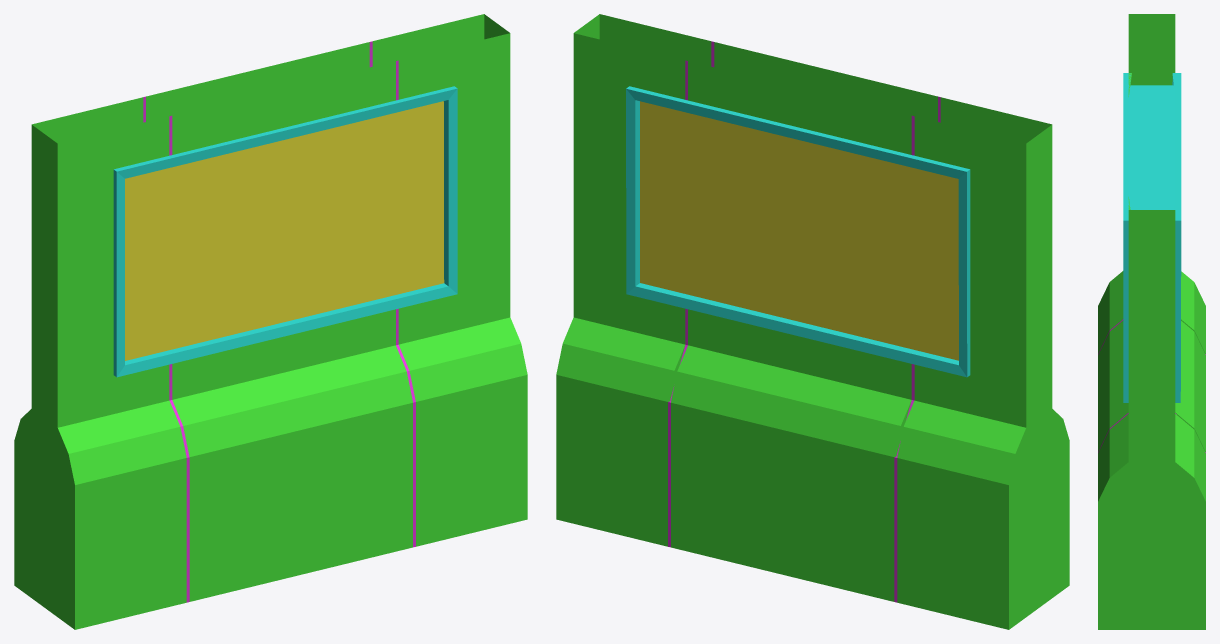
Rendered from Wall_43_G_Straight.fbx.
3 views of the same model, side by side, from view 1: azimuth 30°, elevation 25°; view 2: azimuth 150°, elevation 25°; view 3: azimuth 270°, elevation 25° (orthographic). The views are drawn at different scales.
Parts seen in each view (by area): view 1: Wall_43_G_Straight; view 2: Wall_43_G_Straight; view 3: Wall_43_G_Straight.
Boxes of the visible parts, box(x1,y1,x2,y2) form: Wall_43_G_Straight: box(14, 14, 527, 629); Wall_43_G_Straight: box(556, 14, 1069, 629); Wall_43_G_Straight: box(1098, 14, 1205, 629).
Bounding box in the file's own units: 457 × 457 × 106.
